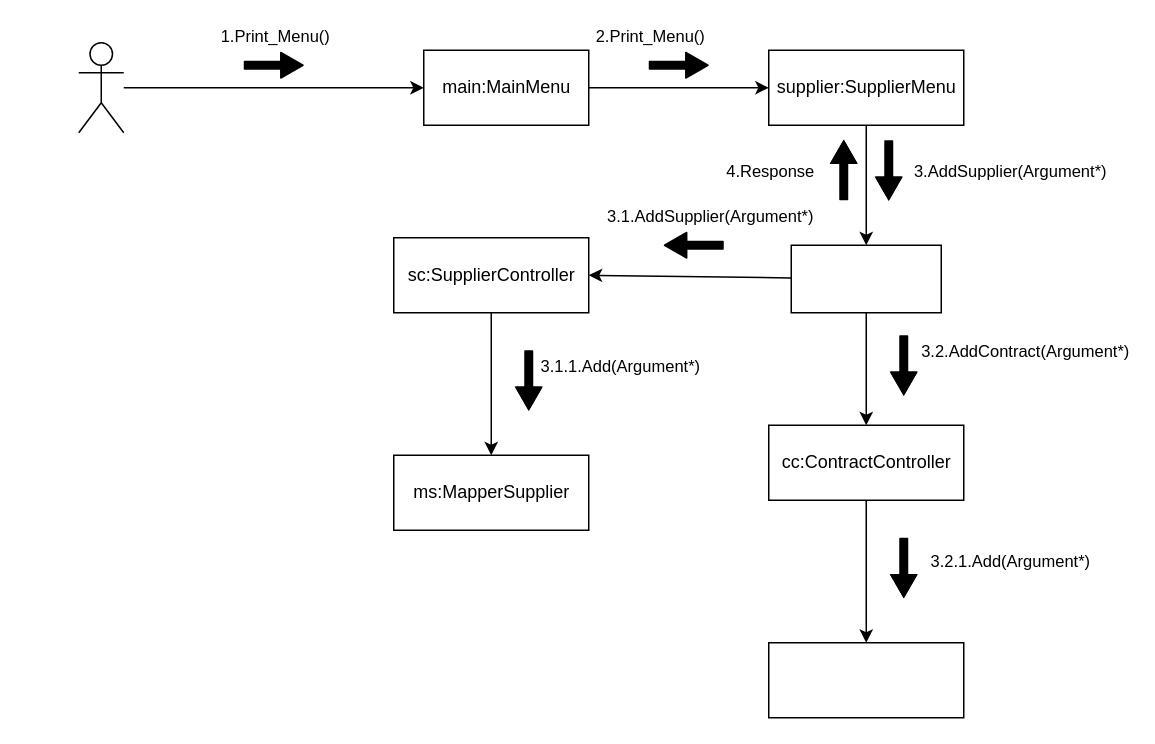
Some shapes in this 1155 by 744 pixel diagram are drawn without their labels. Here are the shapes that lost their labels. From the top down, the centre of each, then its label:
At point 100,87: "Suppliers manager".
At point 865,278: "facade:Facade".
At point 865,679: "mc:MapperContract".
